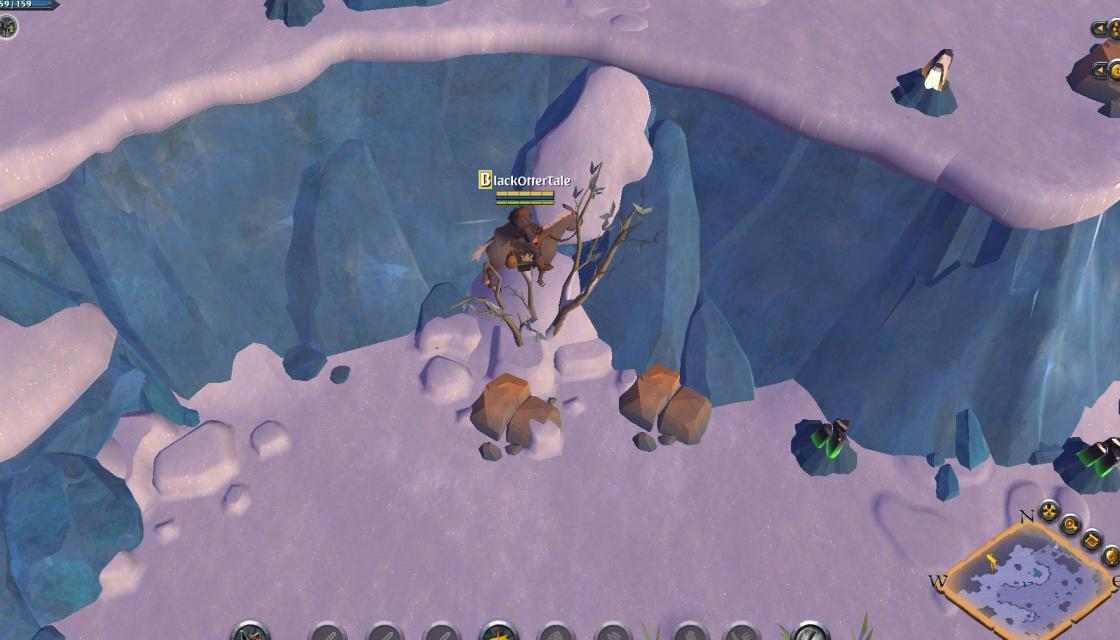copperore: (886, 44, 966, 122), (260, 0, 333, 26)
limestone: (615, 361, 714, 453), (467, 370, 564, 459), (1070, 35, 1120, 115)
tinore: (782, 410, 858, 476), (1055, 430, 1120, 500)
